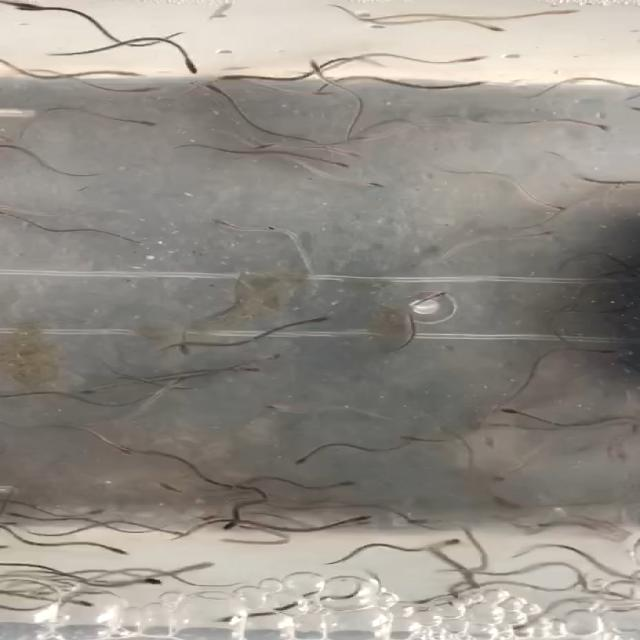active_glass_eel: (570, 338, 626, 362), (0, 1, 64, 19), (284, 308, 340, 328), (328, 148, 392, 164), (124, 116, 169, 138), (298, 55, 339, 79), (432, 529, 481, 549), (2, 502, 56, 520), (524, 6, 584, 22), (577, 114, 625, 134), (412, 286, 460, 306), (290, 450, 339, 469), (422, 53, 476, 70), (340, 128, 384, 148), (138, 446, 181, 466), (218, 65, 252, 89), (514, 228, 562, 245), (579, 169, 615, 191), (206, 212, 242, 234), (458, 571, 495, 592), (171, 339, 209, 359), (256, 398, 294, 417), (440, 76, 480, 94), (495, 402, 535, 420), (101, 438, 133, 458), (167, 60, 211, 74), (591, 303, 635, 317), (503, 498, 537, 516), (514, 520, 552, 536), (76, 386, 114, 401), (402, 514, 436, 530), (542, 200, 576, 216), (322, 154, 352, 172), (104, 66, 148, 78), (105, 542, 138, 558), (391, 434, 426, 449), (66, 597, 106, 610), (188, 557, 218, 573), (607, 528, 631, 548), (240, 365, 268, 381), (250, 140, 282, 154), (472, 24, 516, 34), (362, 177, 386, 195), (220, 518, 246, 534), (204, 80, 228, 97), (130, 84, 164, 96), (160, 483, 188, 497), (428, 550, 458, 563), (136, 572, 166, 585), (0, 389, 27, 403), (350, 512, 376, 526), (188, 512, 218, 524), (141, 528, 176, 538), (252, 353, 275, 367), (236, 524, 262, 536), (218, 614, 240, 628), (358, 568, 380, 582), (333, 479, 358, 489), (78, 511, 106, 518)
